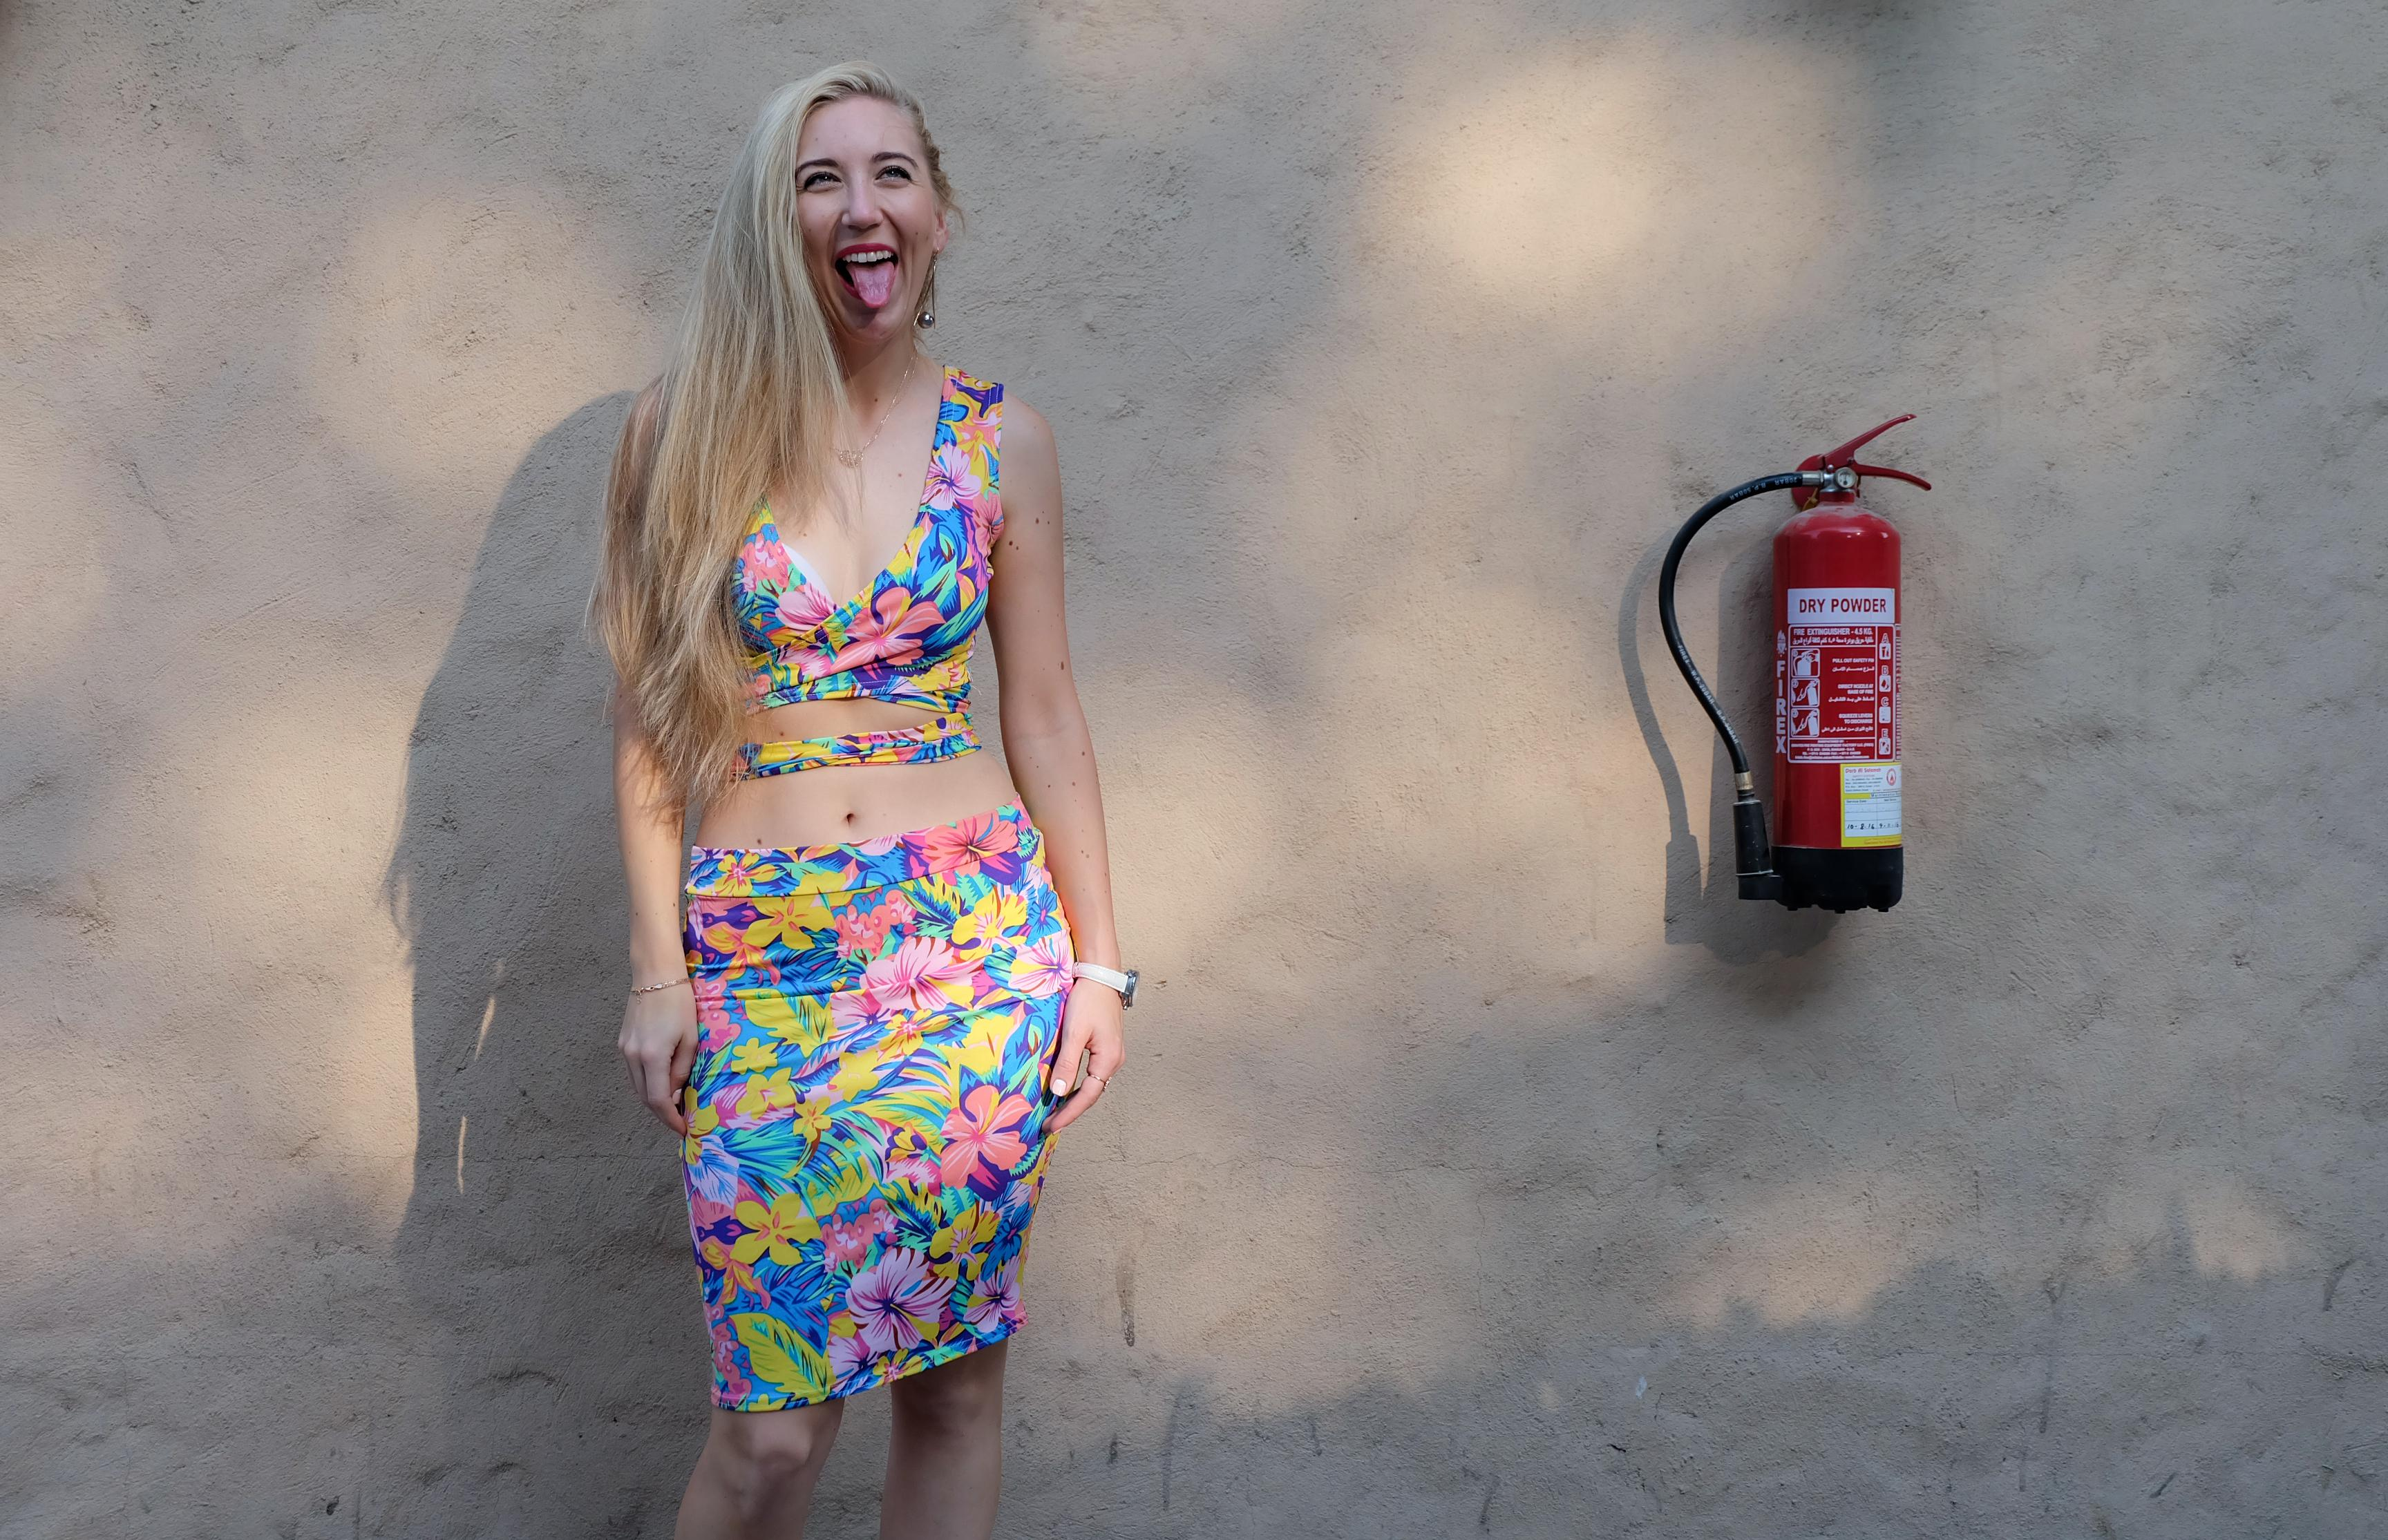Fire Extinguisher: (1613, 397, 1962, 936)
